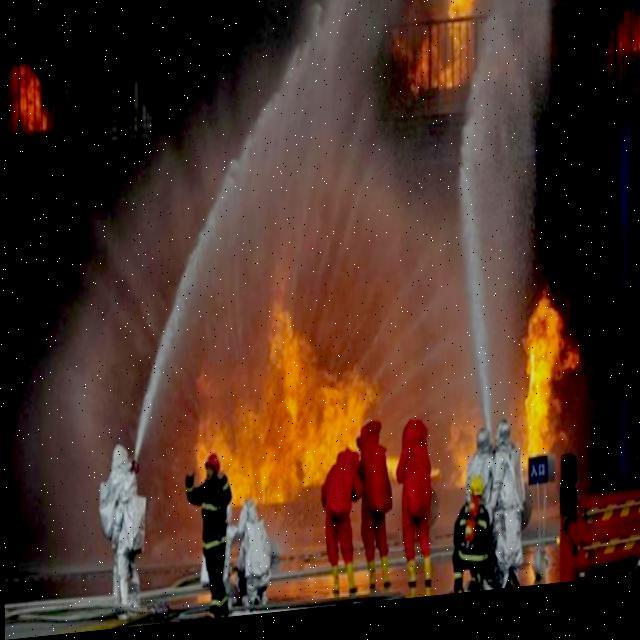Fire: (190, 310, 379, 518), (454, 299, 574, 499), (408, 0, 487, 103)
